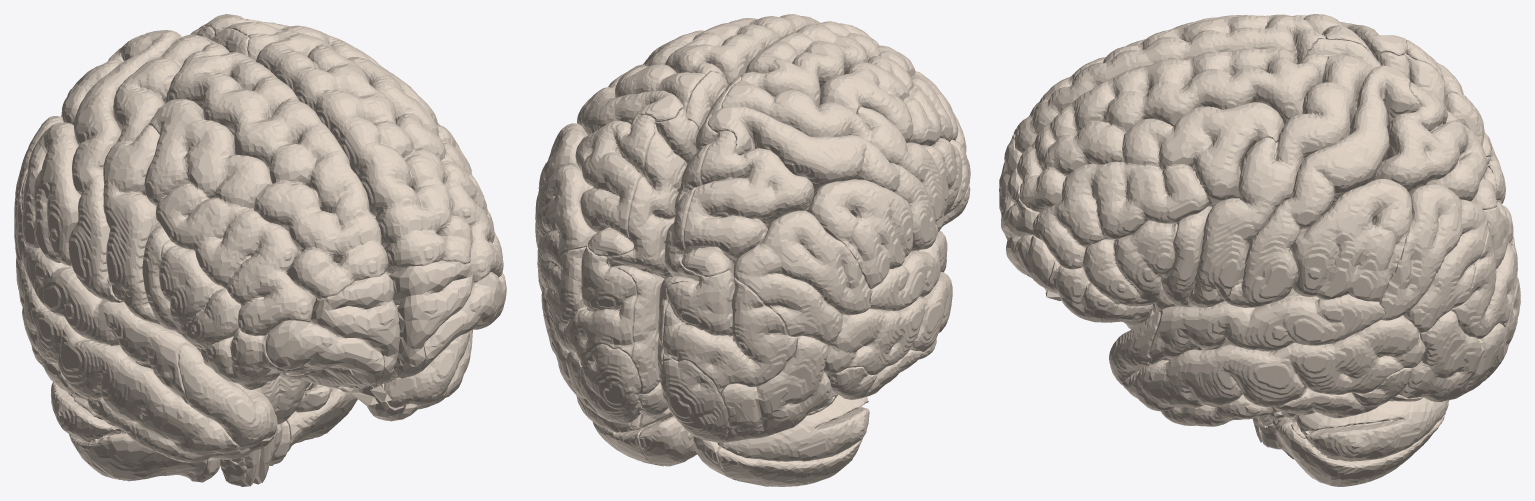
Rendered from brain.glb.
3 views of the same model, side by side, from view 1: azimuth 30°, elevation 25°; view 2: azimuth 150°, elevation 25°; view 3: azimuth 270°, elevation 25° (orthographic). The views are drawn at different scales.
Parts seen in each view (by area): view 1: brain; view 2: brain; view 3: brain.
Part boxes in pixels (x1,y1,x2,y2): brain: [14, 14, 506, 486]; brain: [535, 14, 970, 486]; brain: [999, 14, 1520, 486].
Bounding box in the file's own units: 0.1364 × 0.1461 × 0.167.
